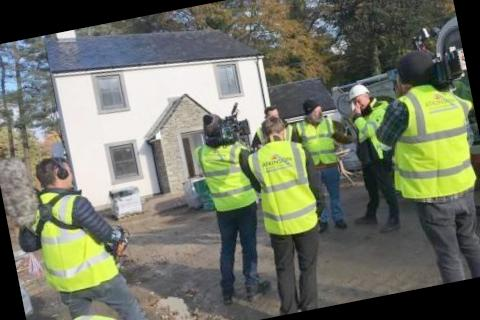helmet: (341, 78, 376, 106)
person: (365, 43, 480, 290), (7, 142, 141, 320), (236, 108, 333, 310), (190, 109, 273, 310), (286, 90, 364, 236), (335, 78, 410, 226)
